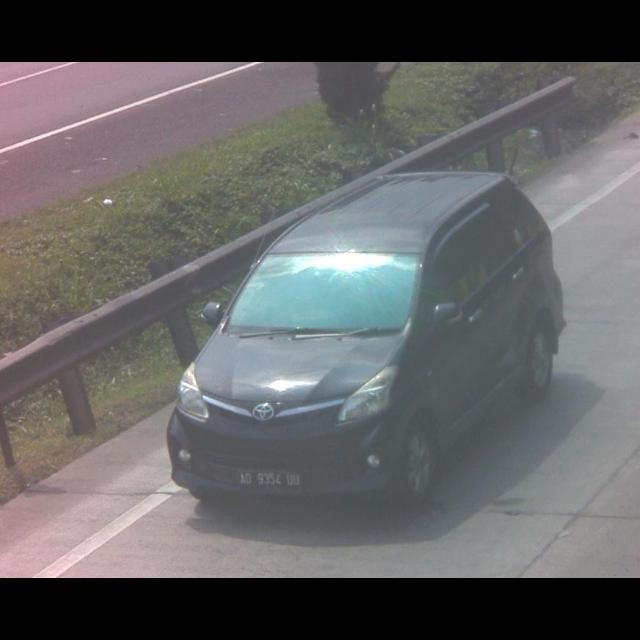plate: (235, 470, 302, 496)
